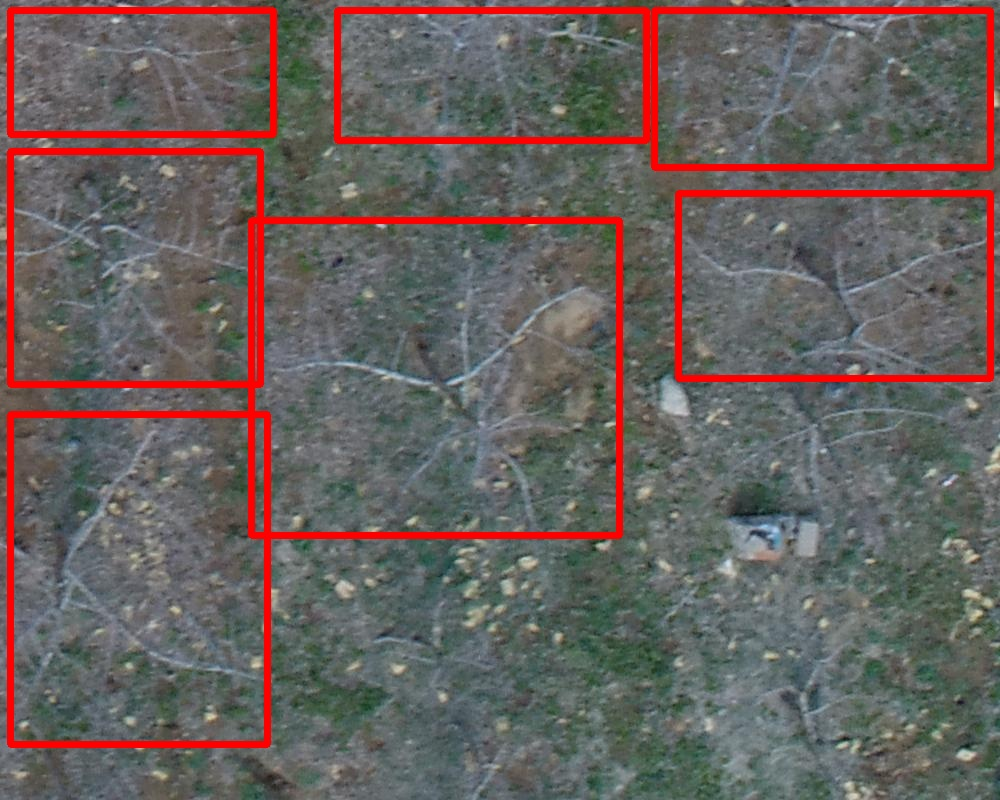apple: (251, 220, 619, 535), (10, 414, 267, 744), (10, 151, 260, 384), (678, 193, 990, 378), (654, 10, 990, 167), (337, 10, 646, 140), (10, 10, 273, 134)
